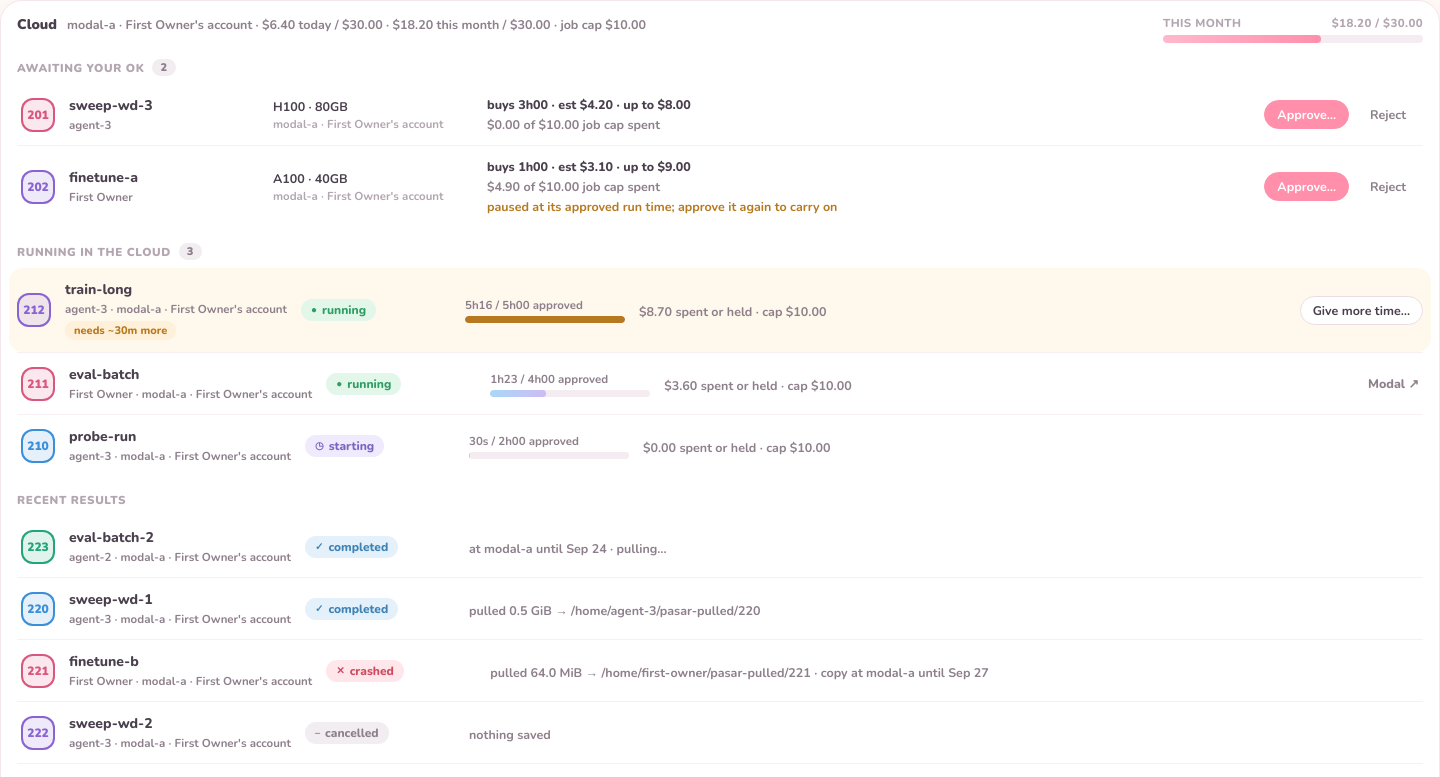
Scenario: CloudCard › confirming approves (not extend), closes and tells the app
Click the button "Approve…" in the row of "buys 3h00 · est $4.20 · up to $8.00": (1307, 114) [1264,100,1349,129]
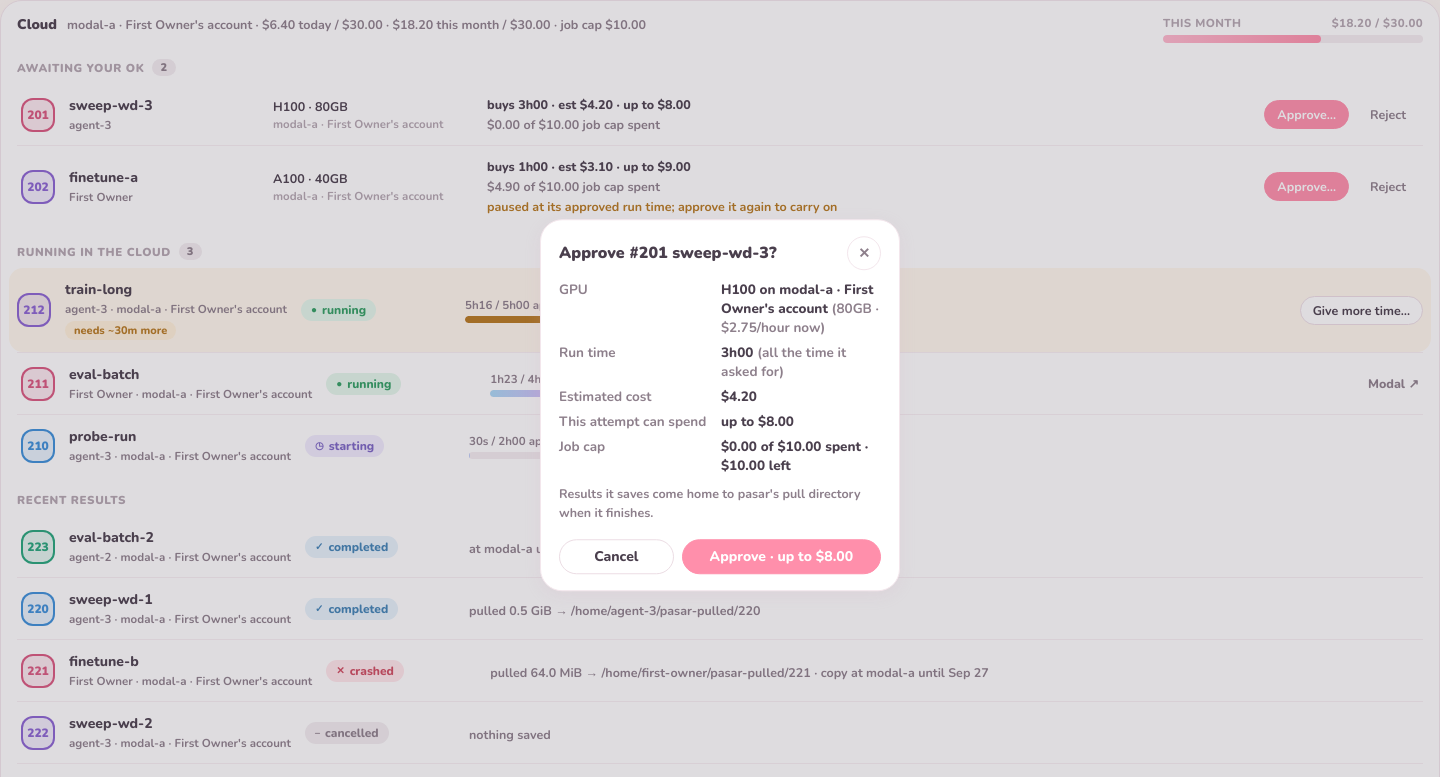
Now the dialog shows "on modal-a", box [721,280,873,318]
Click the button "Approve · up to $8.00": (781, 556) [682,539,881,574]
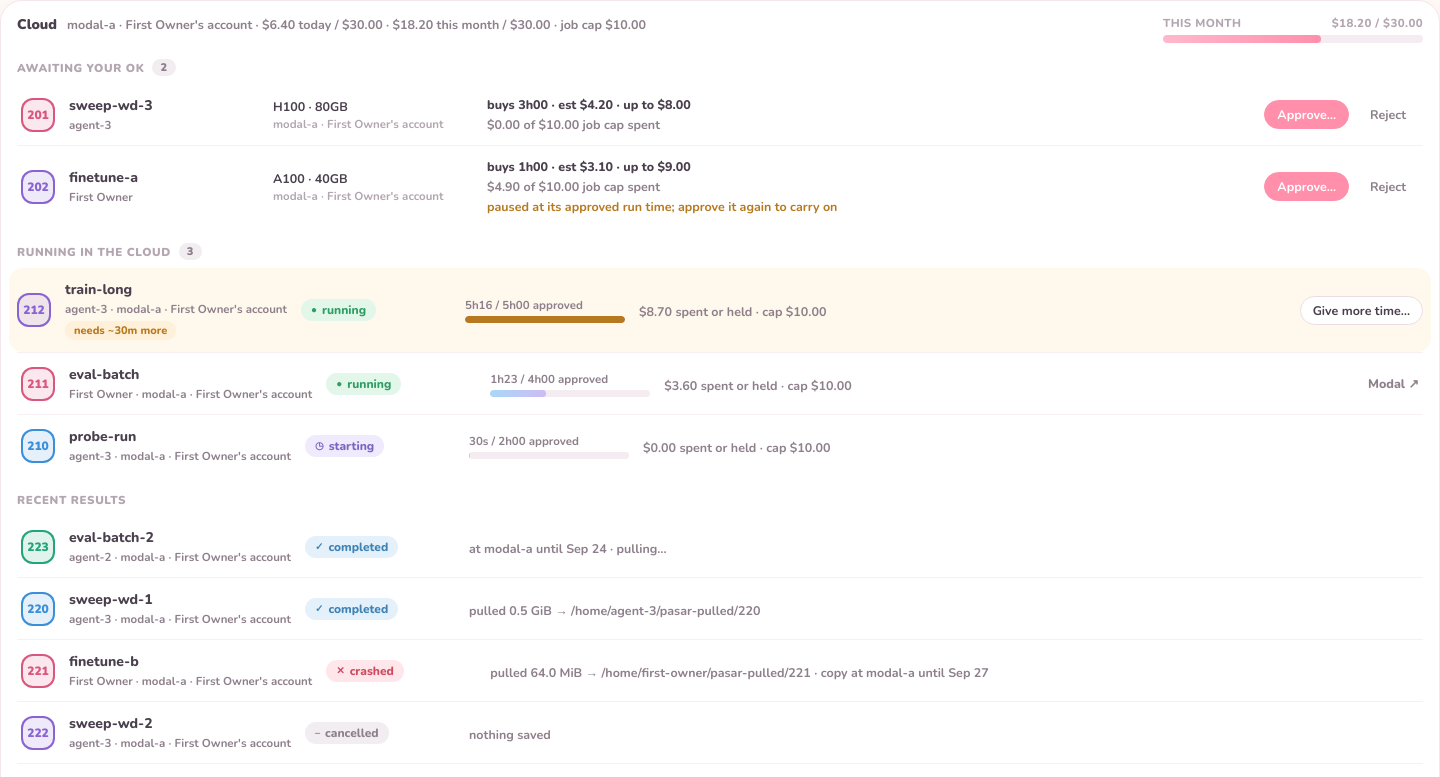
Now the dialog is gone
